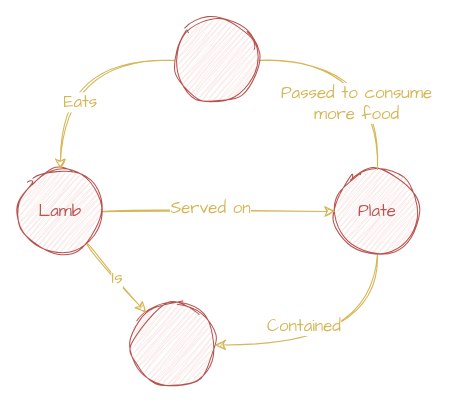
Some shapes in this 449 by 405 pixel diagram are drawn without their labels. Each missing label, with the centre of its shape:
"Food" goes at (172,344).
"Mary" goes at (216,59).
